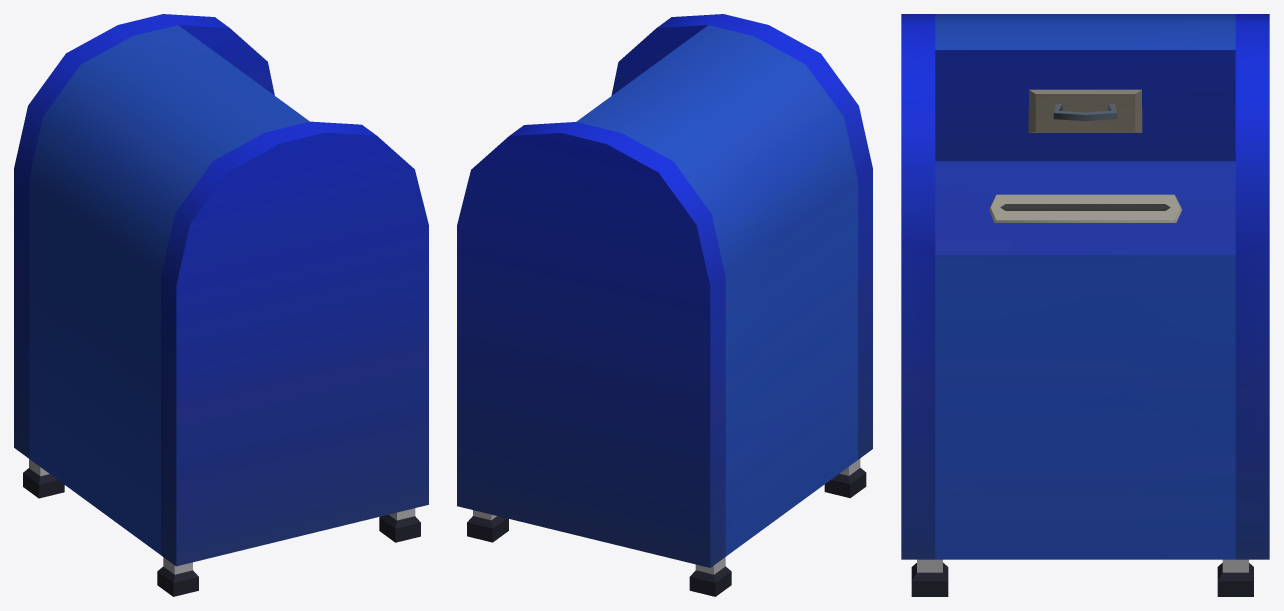
File: PostBox_1_D.fbx
3 renders of one model, left to right at view 1: azimuth 30°, elevation 25°; view 2: azimuth 150°, elevation 25°; view 3: azimuth 270°, elevation 25°, orthographic. The views are drawn at different scales.
Visible parts, largest first — view 1: PostBox_1_D; view 2: PostBox_1_D; view 3: PostBox_1_D.
Boxes of the visible parts, x1,y1,x2,y2 form: PostBox_1_D: [14, 14, 428, 596]; PostBox_1_D: [457, 14, 872, 596]; PostBox_1_D: [901, 14, 1269, 596].
Bounding box in the file's own units: 51.21 × 83.66 × 56.89.
